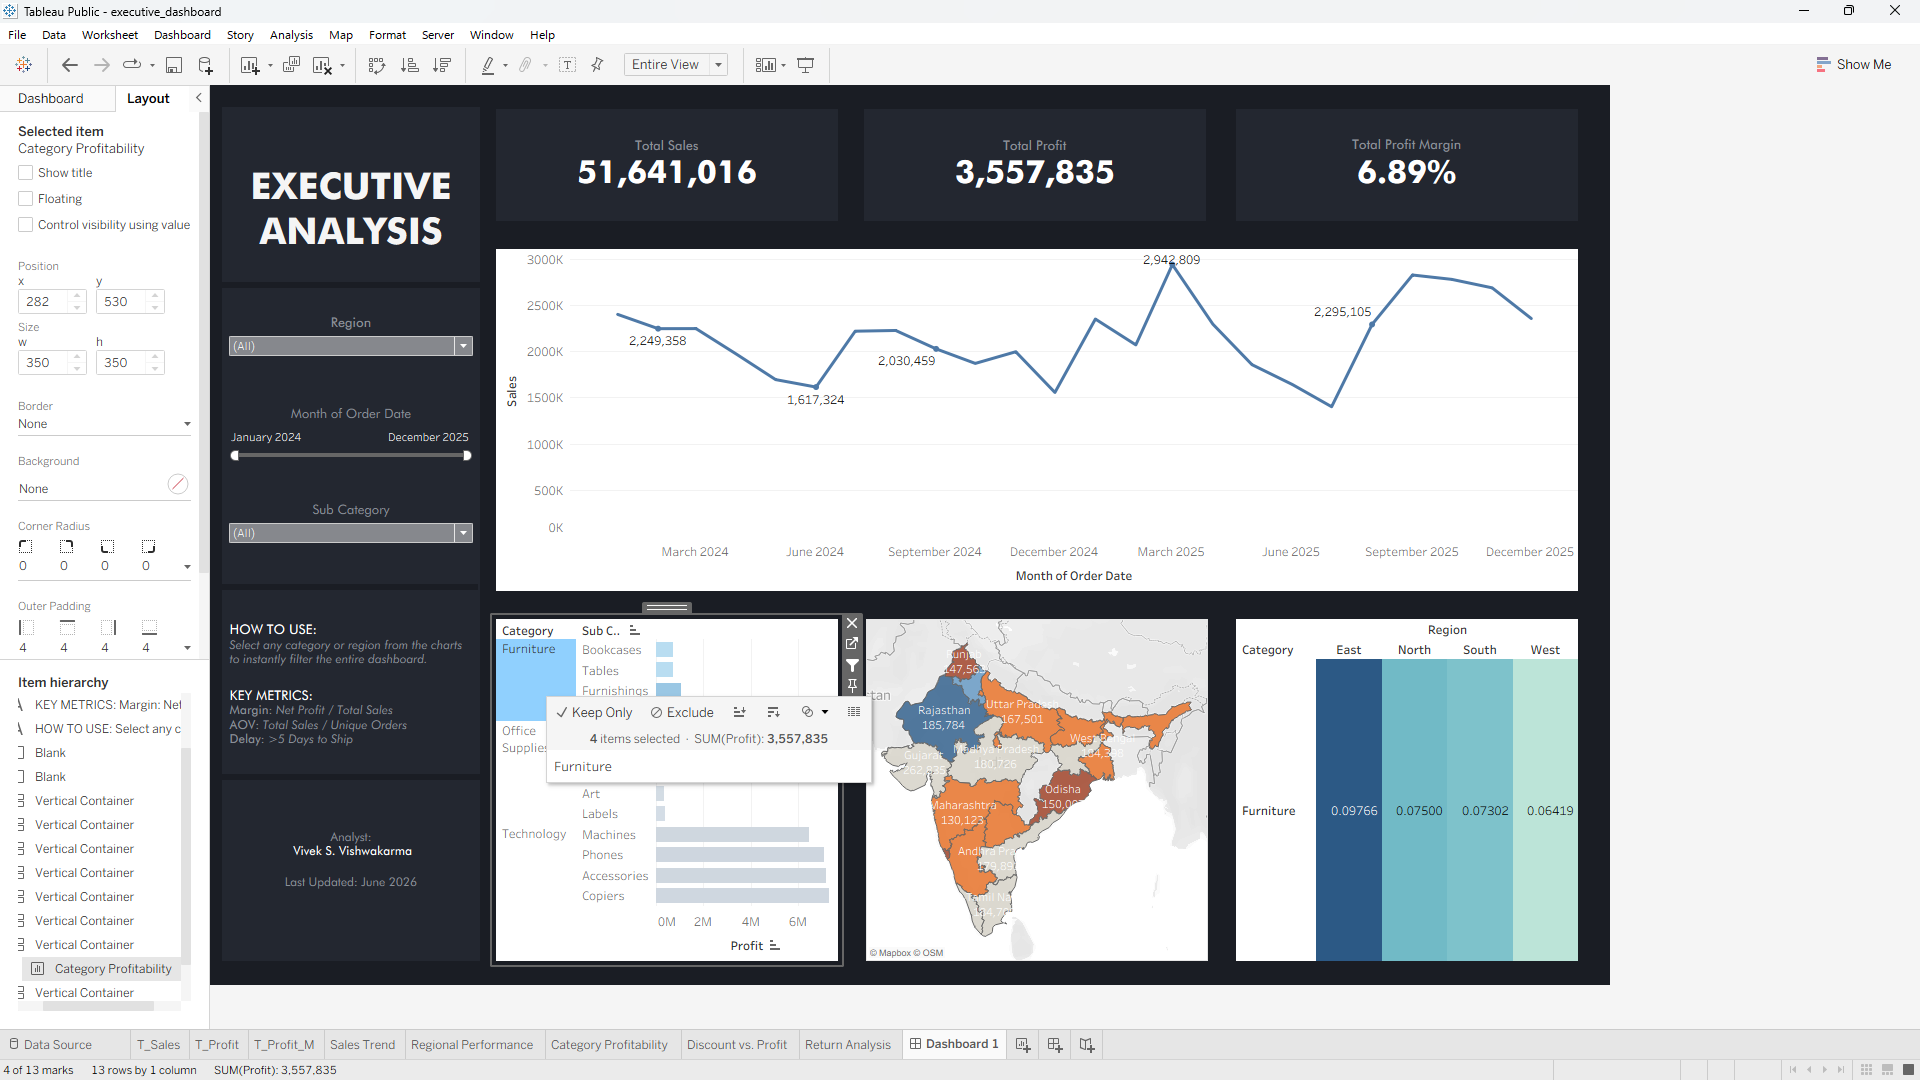

This screenshot's page, from the dashboard's own definition file:
{"tool":"tableau","page":{"name":"Dashboard 1","canvas":[1400,900],"ordinal":0},"visuals":[{"type":"worksheet","title":"T_Sales","mark":"Automatic","box":[282,20,350,120]},{"type":"worksheet","title":"T_Profit","mark":"Automatic","box":[650,20,350,120]},{"type":"worksheet","title":"T_Profit_M","mark":"Automatic","box":[1022,20,350,120]},{"type":"text","box":[12,22,258,203]},{"type":"worksheet","title":"Sales Trend","mark":"Automatic","rows":["sales"],"cols":["order_date"],"box":[282,160,1090,350]},{"type":"blank","box":[12,197,258,6]},{"type":"filter","title":"Return Analysis","param":"[federated.0wexzy50cv2zmn1h14a810nxdeul].[none:region:nk]","box":[12,225,258,91]},{"type":"filter","title":"Sales Trend","param":"[federated.0wexzy50cv2zmn1h14a810nxdeul].[tmn:order_date:qk]","box":[12,316,258,96]},{"type":"filter","title":"Category Profitability","param":"[federated.0wexzy50cv2zmn1h14a810nxdeul].[none:sub_category:nk]","box":[12,412,258,87]},{"type":"blank","box":[7,499,261,6]},{"type":"text","box":[17,526,243,67]},{"type":"worksheet","title":"Category Profitability","mark":"Automatic","rows":["category","sub_category"],"cols":["profit"],"box":[282,530,350,349.9]},{"type":"worksheet","title":"Regional Performance","mark":"Multipolygon","box":[652,530,350,350]},{"type":"worksheet","title":"Return Analysis","mark":"Square","rows":["category"],"cols":["region"],"box":[1022,530,350,350]},{"type":"text","box":[17,602,183,61]},{"type":"blank","box":[7,689,268,6]},{"type":"text","box":[72,739,138,73]}]}

Visuals, with their boxes on the page's 1400x900 design canvas (x1, y1, x2, y2). These are canvas units, not pixel positions in the 1920x1080 screenshot, which may show the page scaled, cropped or inside an application window:
"T_Sales" worksheet: [282,20,632,140]
"T_Profit" worksheet: [650,20,1000,140]
"T_Profit_M" worksheet: [1022,20,1372,140]
text: [12,22,270,225]
"Sales Trend" worksheet: [282,160,1372,510]
blank: [12,197,270,203]
"Return Analysis" filter: [12,225,270,316]
"Sales Trend" filter: [12,316,270,412]
"Category Profitability" filter: [12,412,270,499]
blank: [7,499,268,505]
text: [17,526,260,593]
"Category Profitability" worksheet: [282,530,632,880]
"Regional Performance" worksheet (Multipolygon marks): [652,530,1002,880]
"Return Analysis" worksheet (Square marks): [1022,530,1372,880]
text: [17,602,200,663]
blank: [7,689,275,695]
text: [72,739,210,812]
